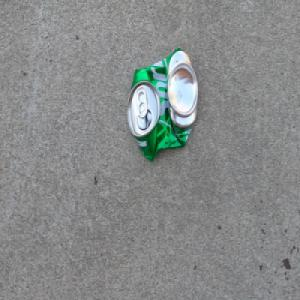SodaCan: (126, 46, 199, 163)
